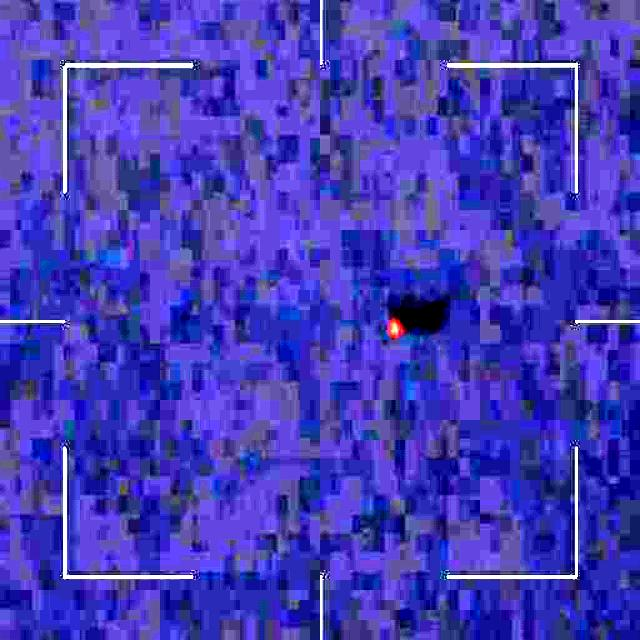bird: (382, 304, 402, 342)
